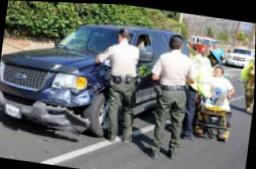Fender: (39, 65, 109, 105)
